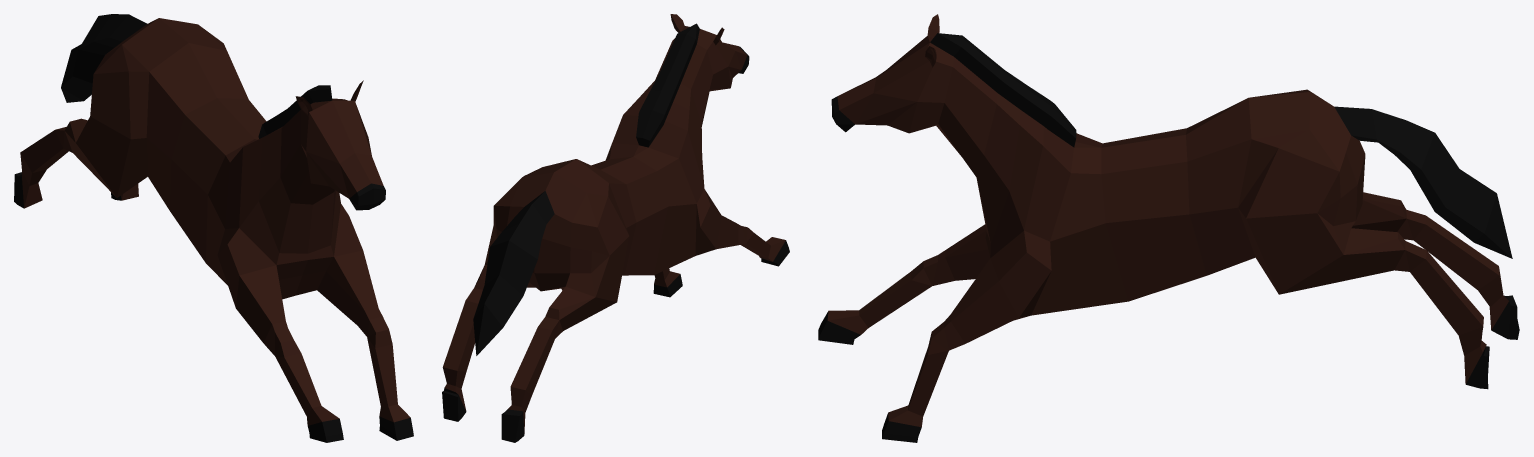
File: Horse_000018.obj
The picture shows the model from 3 angles, left to right: view 1: azimuth 30°, elevation 25°; view 2: azimuth 150°, elevation 25°; view 3: azimuth 270°, elevation 25°; orthographic projection. The views are drawn at different scales.
Parts seen in each view (by area): view 1: Horse_Cylinder; view 2: Horse_Cylinder; view 3: Horse_Cylinder.
Part boxes in pixels (x1,y1,x2,y2): Horse_Cylinder: (14,14,413,442); Horse_Cylinder: (442,14,789,442); Horse_Cylinder: (818,14,1519,442).
Size of the model in its own units: 2.56 by 6.21 by 10.4.
